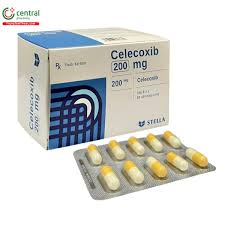Celecoxip: (109, 45, 163, 60)
